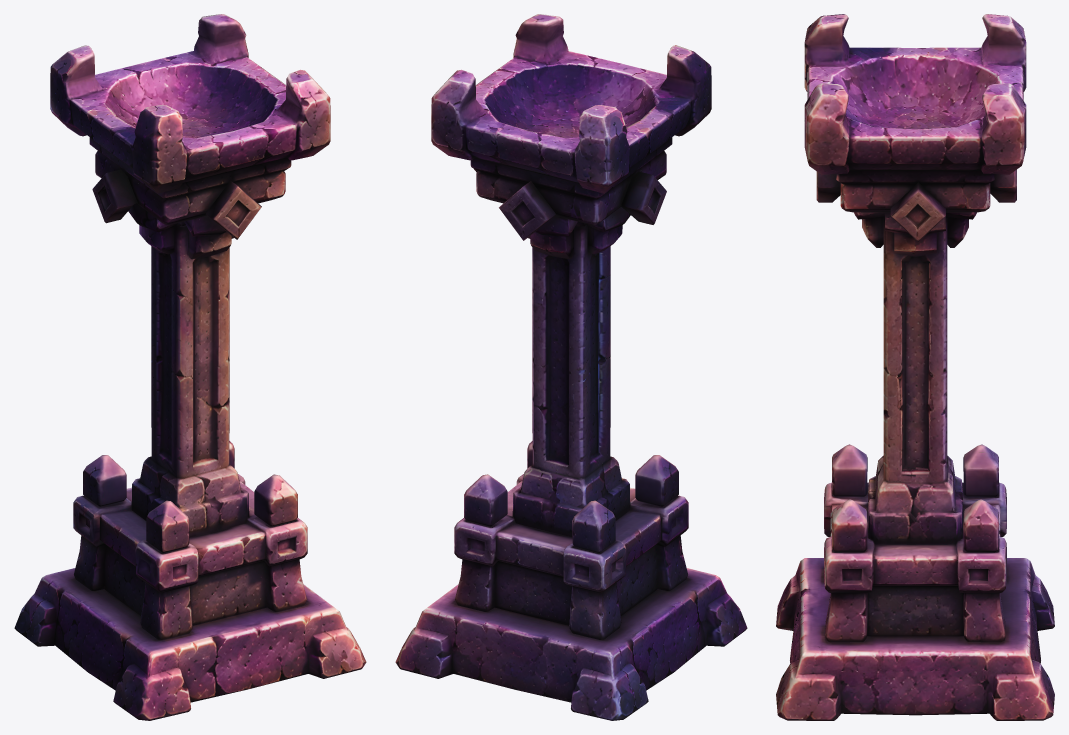
File: stone+pedestal+3d+model.fbx
The picture shows the model from 3 angles, left to right: view 1: azimuth 30°, elevation 25°; view 2: azimuth 150°, elevation 25°; view 3: azimuth 270°, elevation 25°; orthographic projection. The views are drawn at different scales.
Visible parts, largest first — view 1: tripo_3541d44f_471d_4e74_a06f_f8935d22357f; view 2: tripo_3541d44f_471d_4e74_a06f_f8935d22357f; view 3: tripo_3541d44f_471d_4e74_a06f_f8935d22357f.
Boxes of the visible parts, x1,y1,x2,y2 form: tripo_3541d44f_471d_4e74_a06f_f8935d22357f: (14,14,366,720); tripo_3541d44f_471d_4e74_a06f_f8935d22357f: (395,14,747,720); tripo_3541d44f_471d_4e74_a06f_f8935d22357f: (776,14,1054,720).
Bounding box in the file's own units: 0.4146 × 0.9995 × 0.4146.
